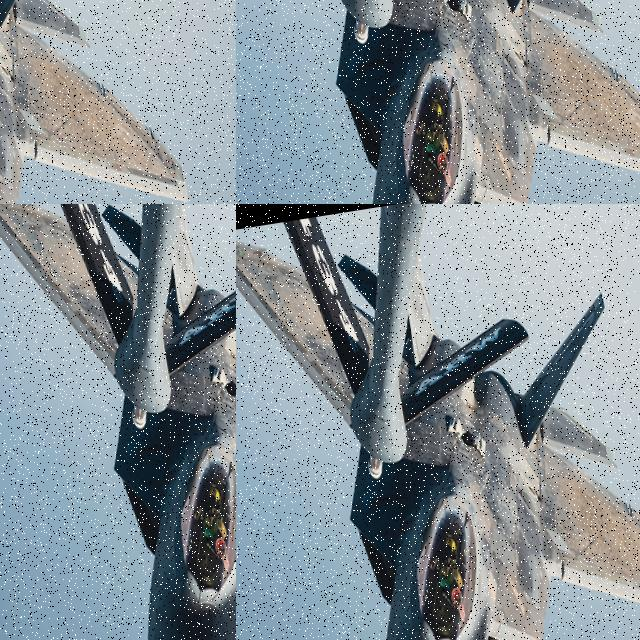A380: (236, 0, 640, 204), (73, 232, 236, 569)
F22: (236, 204, 640, 640), (0, 0, 121, 204)
